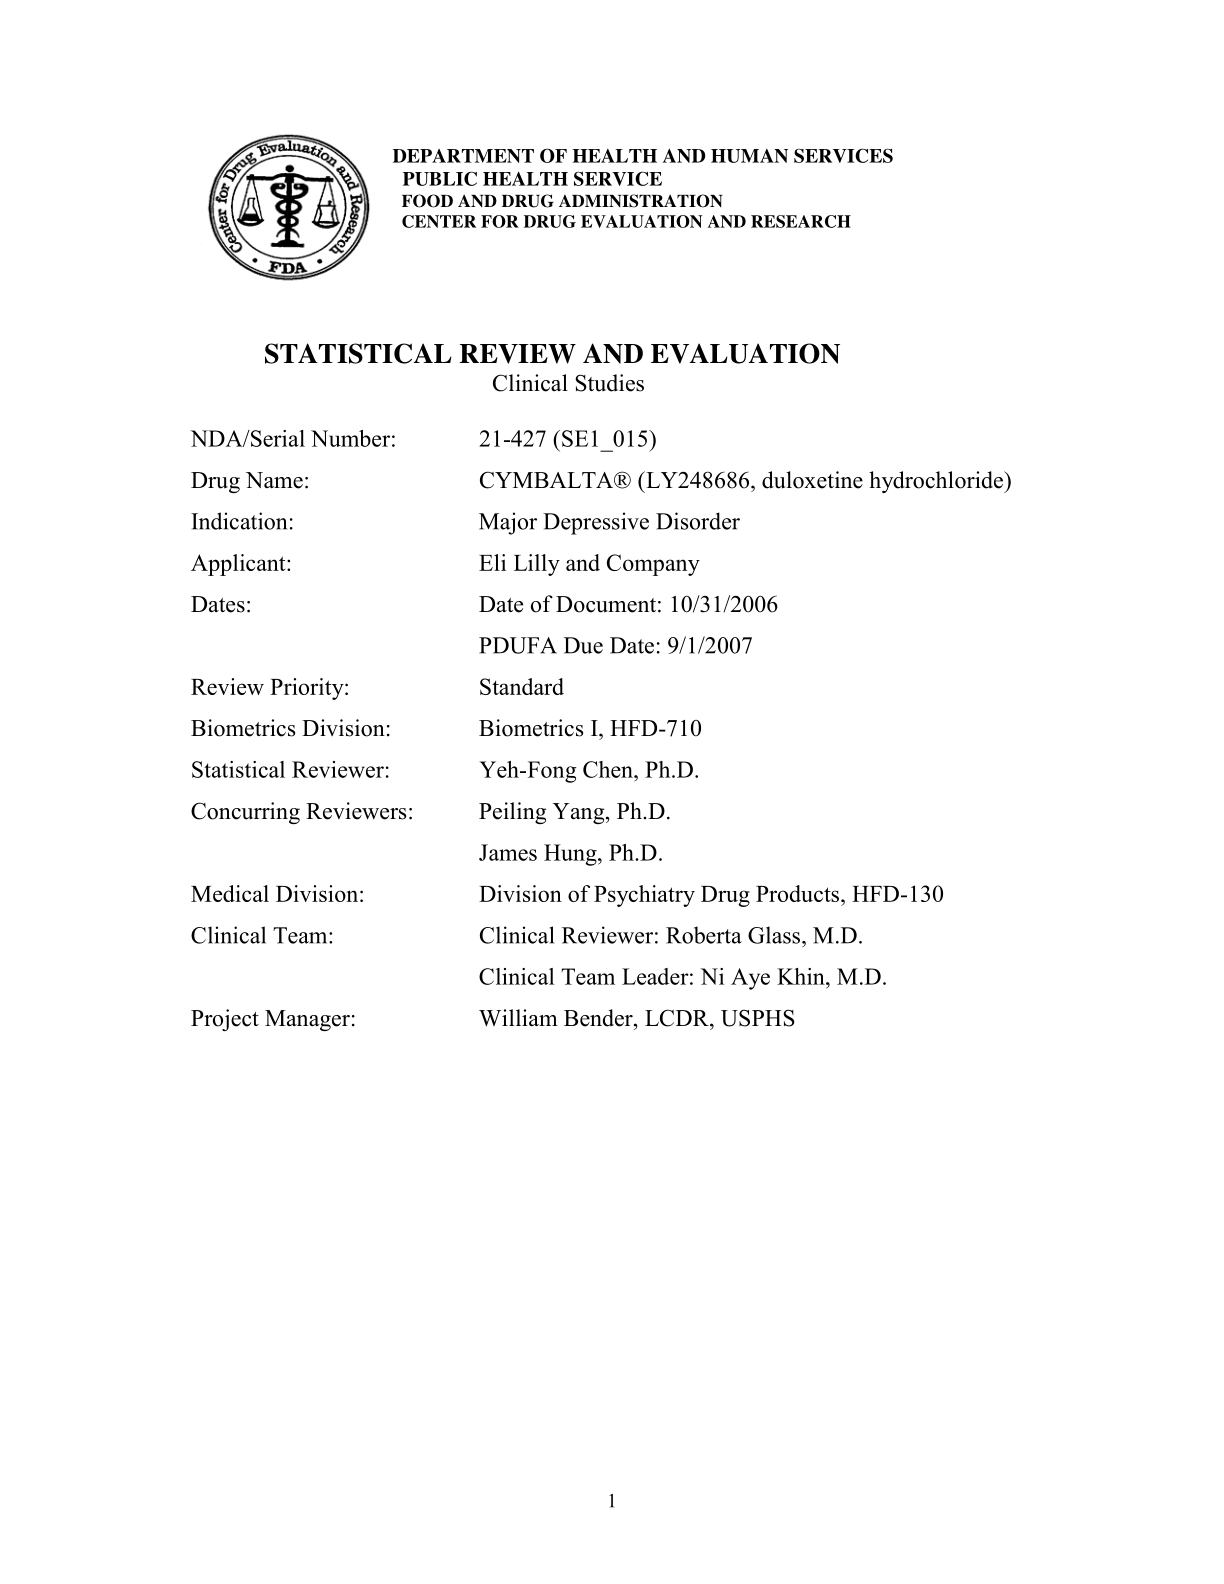nolines: (188, 423, 1011, 1034)
